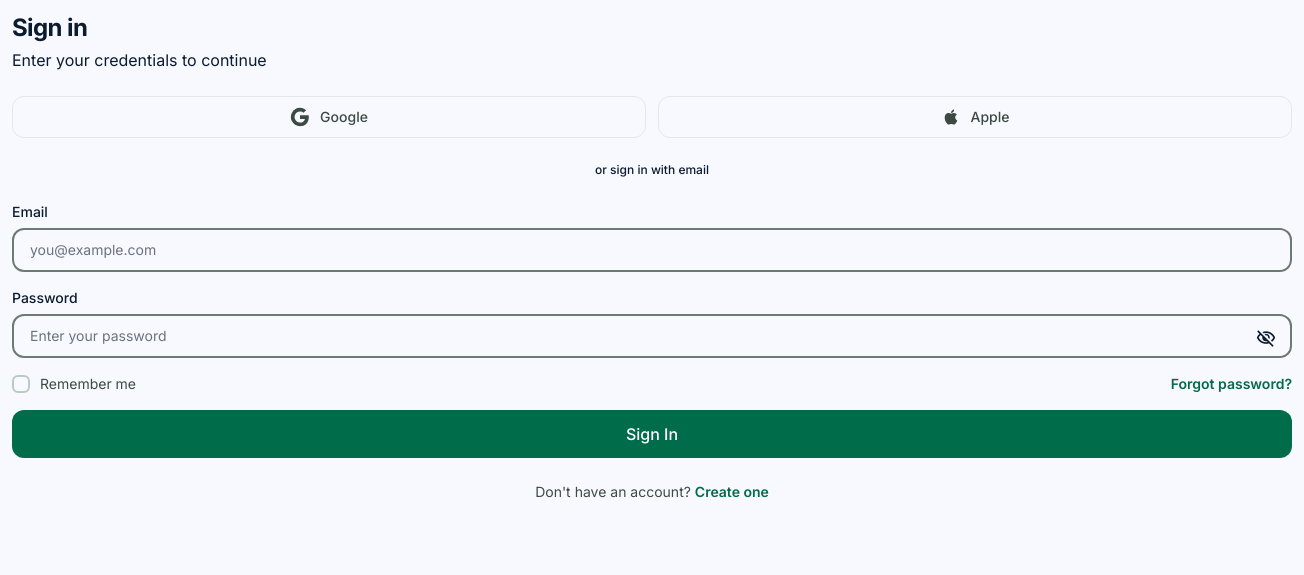
Test: LoginPage › failed login shows error message
Type "test@example.com" into the field labelled "Email".
click(652, 250); type("test@example.com")  # box [12,228,1292,272]
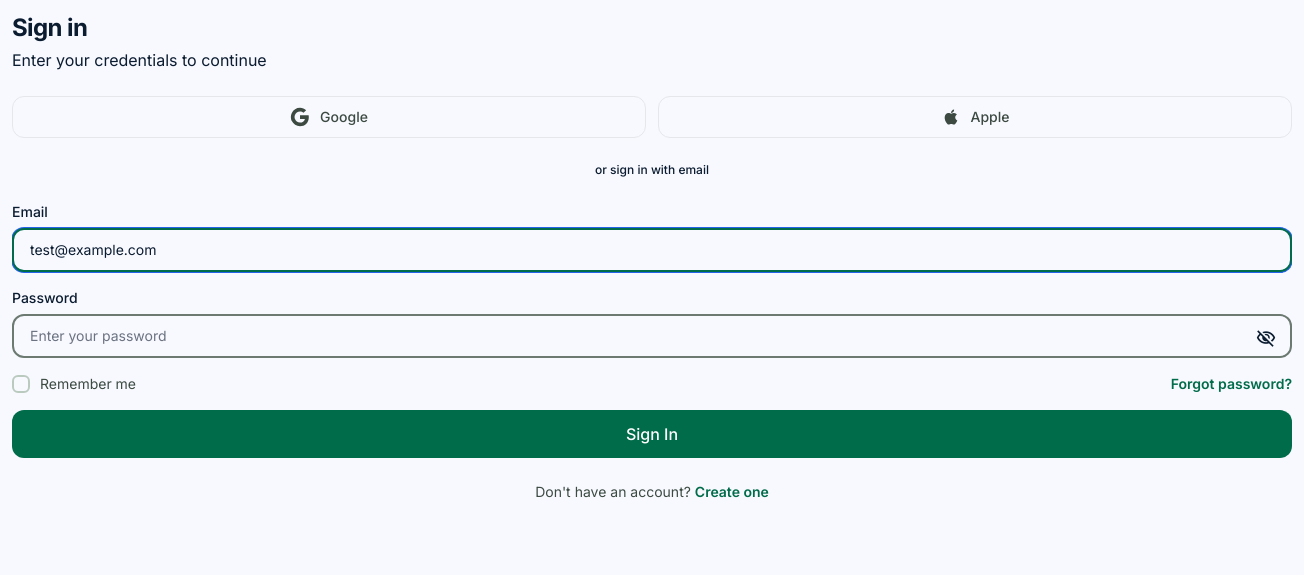
Type "wrongpassword" into the password field labelled "Password".
click(652, 336); type("wrongpassword")  # box [12,314,1292,358]
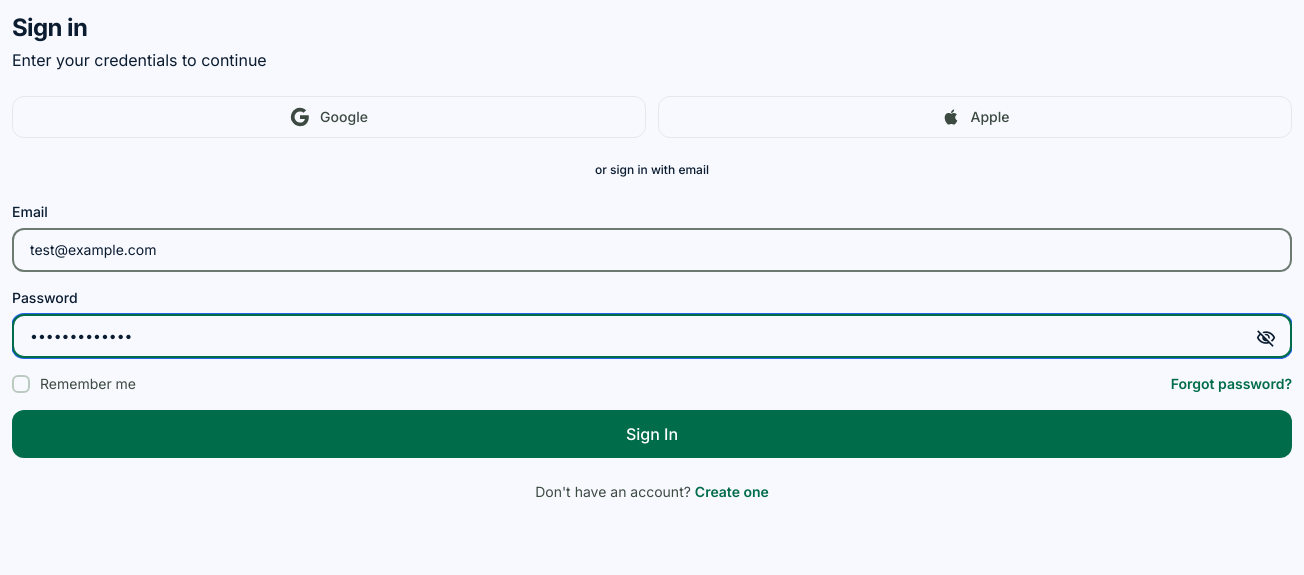
Click the button "Sign In".
click(652, 434)  # box [12,410,1292,458]
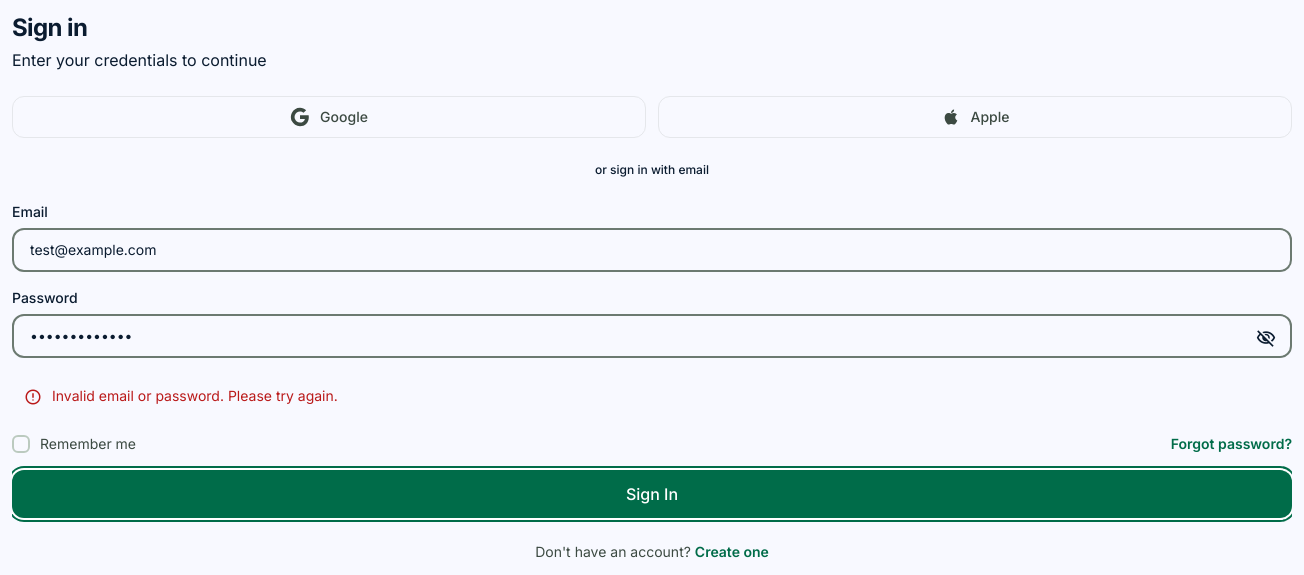
Now the text "Invalid email or password. Please try again." is shown, box [52,386,338,406]
